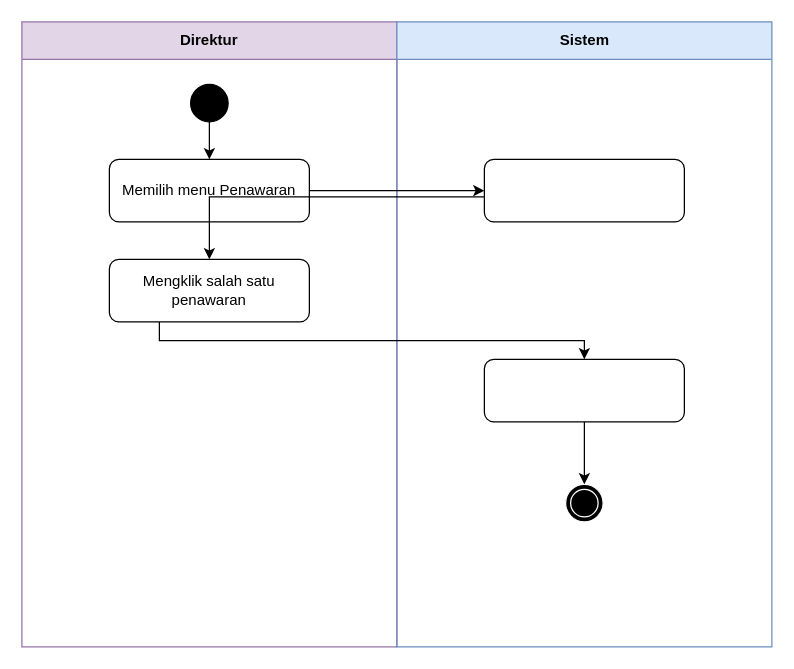
Some shapes in this 794 by 669 pixel diagram are drawn without their labels. Here are the shapes that lost their labels. From the top down, the centre of each, then its label:
the point at 583,190: Menampilkan daftar penawaran
the point at 583,390: Menampilkan detail penawaran
